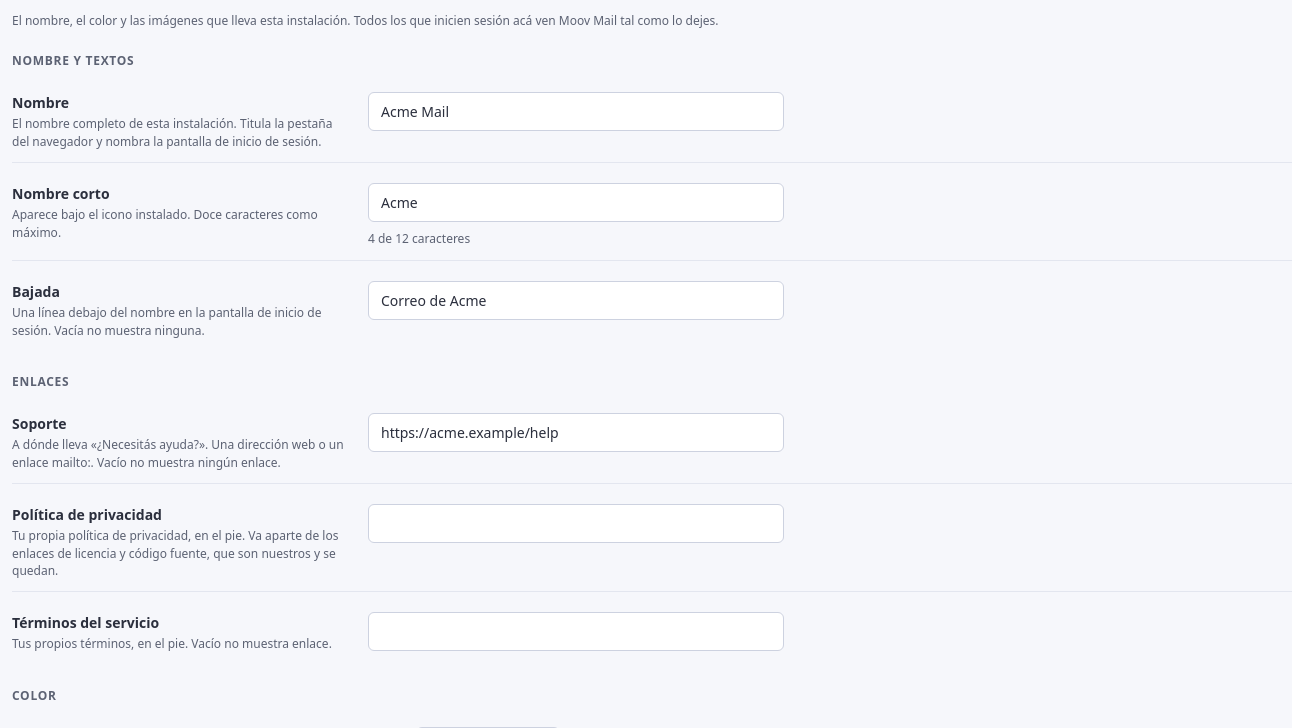
Test: the text fields save on blur, one field at a time › counts the short name LIVE, because twelve is a hard server rule
Expected: the text "4 de 12 caracteres" is shown, [368, 230, 470, 248]
Type "!!" into the field labelled "Nombre corto". click: (576, 203)
box: [368, 183, 784, 222]
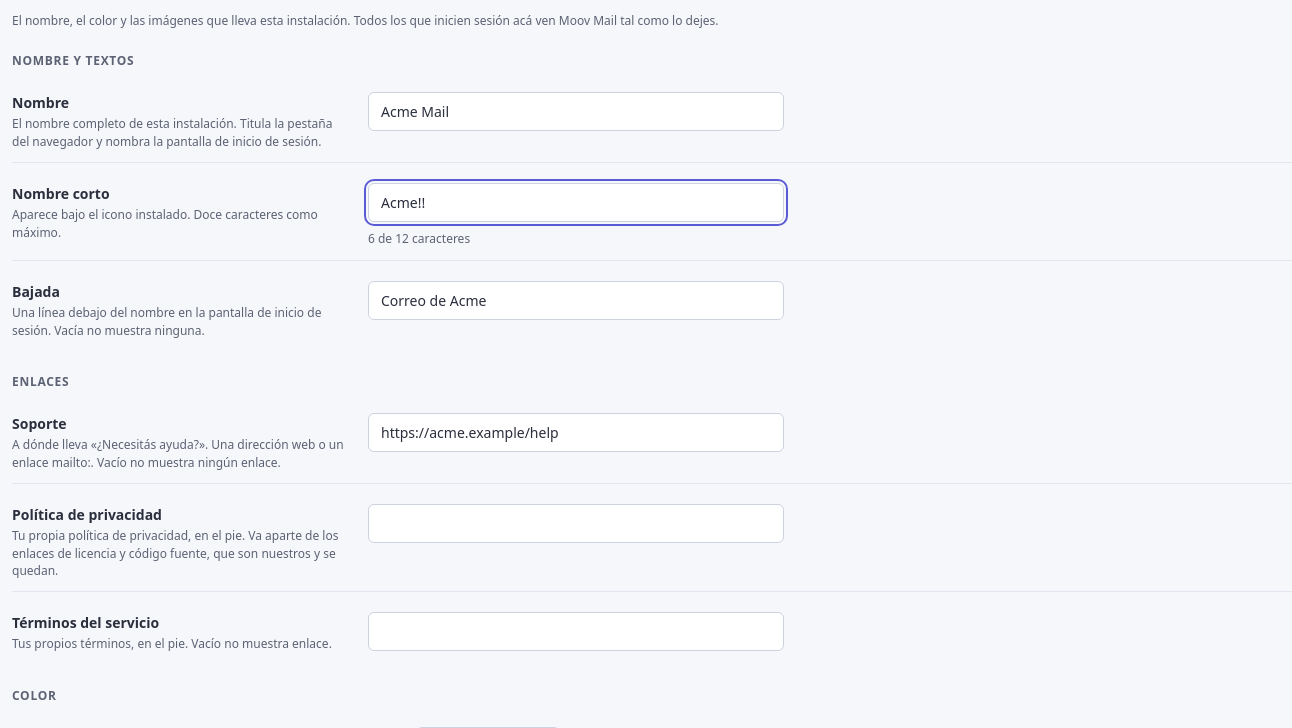
Now the text "6 de 12 caracteres" is shown, box [368, 230, 470, 248]
